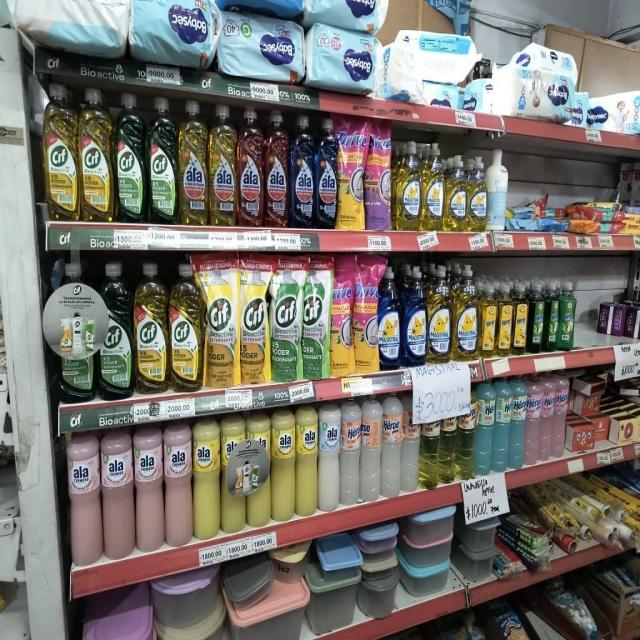ala_conc_amarillo: (178, 99, 208, 226), (209, 104, 236, 226)
ala_conc_azul: (290, 114, 314, 229), (315, 117, 337, 229)
ala_conc_rojo: (238, 106, 264, 227), (265, 110, 289, 228)
ala_crem_amarillo: (193, 417, 220, 541), (221, 415, 245, 534), (272, 409, 295, 521), (296, 405, 318, 516)
ala_crem_blanco: (318, 402, 339, 511)
ala_crem_rosado: (66, 433, 100, 567), (101, 430, 133, 560), (134, 426, 163, 553), (164, 422, 192, 548)
cif_conc_bot_amarilla: (43, 82, 78, 220), (134, 262, 168, 394), (80, 87, 112, 222), (170, 262, 202, 392)
cif_conc_botella_verde: (98, 261, 133, 400), (114, 92, 146, 223), (147, 95, 177, 224)
cif_conc_sachet_amarillo: (204, 253, 238, 388), (240, 254, 269, 385)
cif_conc_sachet_verde: (270, 256, 300, 382), (302, 255, 329, 380)
drive: (353, 255, 378, 373), (366, 118, 392, 230), (338, 118, 364, 230), (330, 255, 352, 377)
heroe: (340, 396, 360, 506), (361, 394, 381, 501), (382, 393, 402, 497), (476, 378, 494, 474), (494, 376, 510, 472), (511, 374, 525, 469), (553, 371, 568, 459), (526, 374, 540, 465), (540, 372, 553, 461)
magistral_con_amarillo: (453, 263, 478, 360), (428, 264, 452, 363), (395, 140, 421, 230), (422, 140, 444, 231), (445, 154, 466, 232), (467, 155, 487, 232)
magistral_con_azul: (402, 265, 427, 366), (378, 266, 402, 370)
